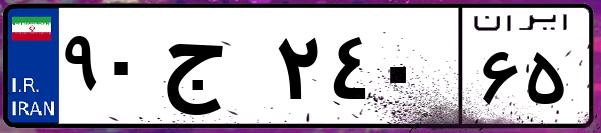0: (385, 28, 445, 110), (110, 28, 158, 98)
2: (270, 28, 330, 110)
4: (330, 28, 385, 110)
5: (525, 38, 570, 115)
6: (475, 38, 525, 113)
9: (57, 26, 110, 100)
ج: (158, 20, 270, 120)
